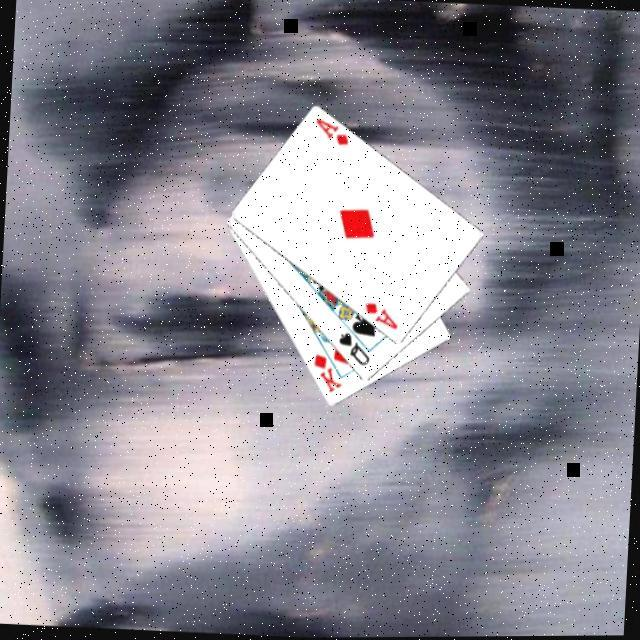AD: (359, 301, 402, 335), (310, 117, 352, 151)
KD: (308, 352, 346, 398)
QS: (333, 331, 374, 372)
